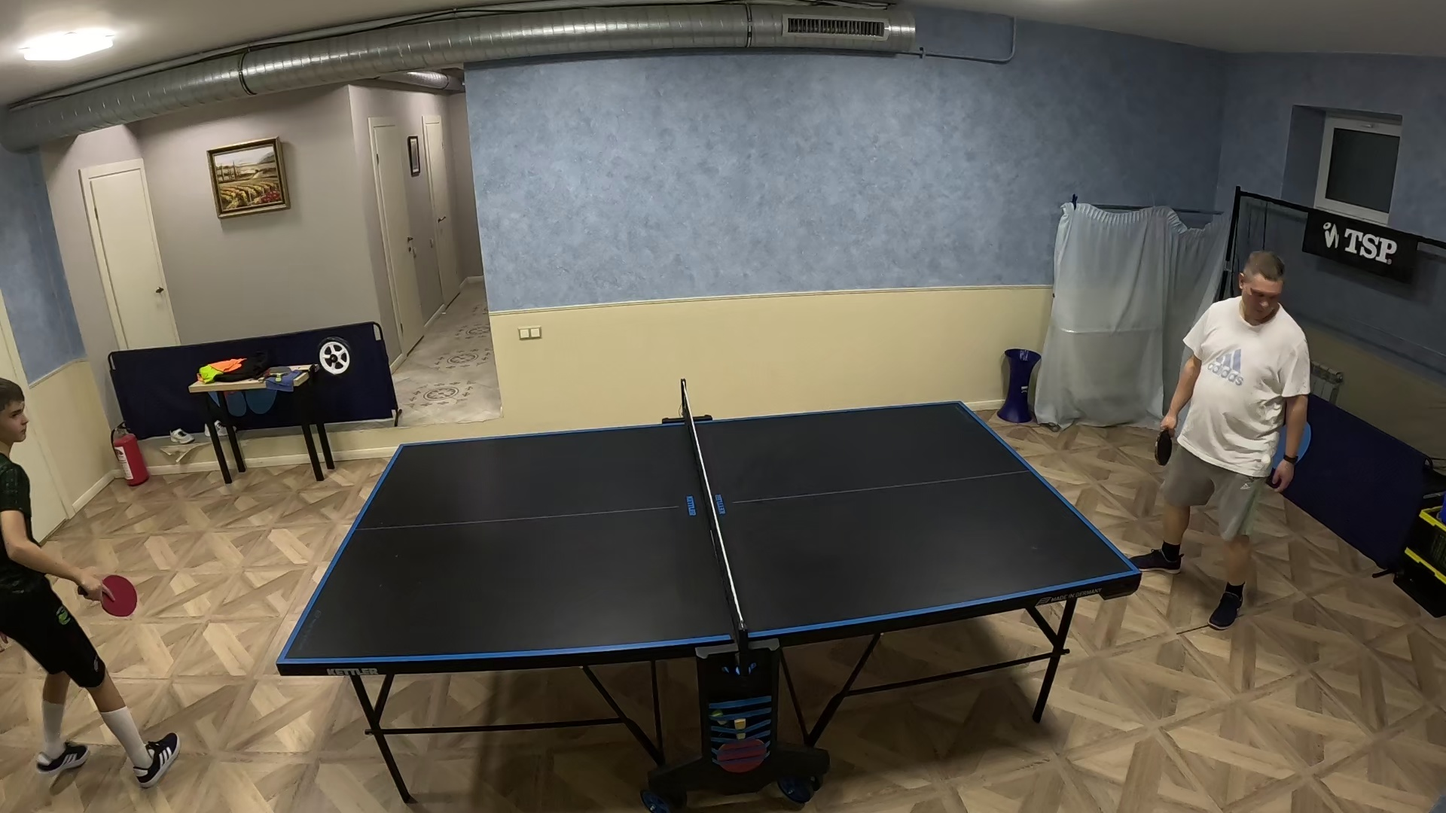Ball: (1262, 454, 1271, 463)
